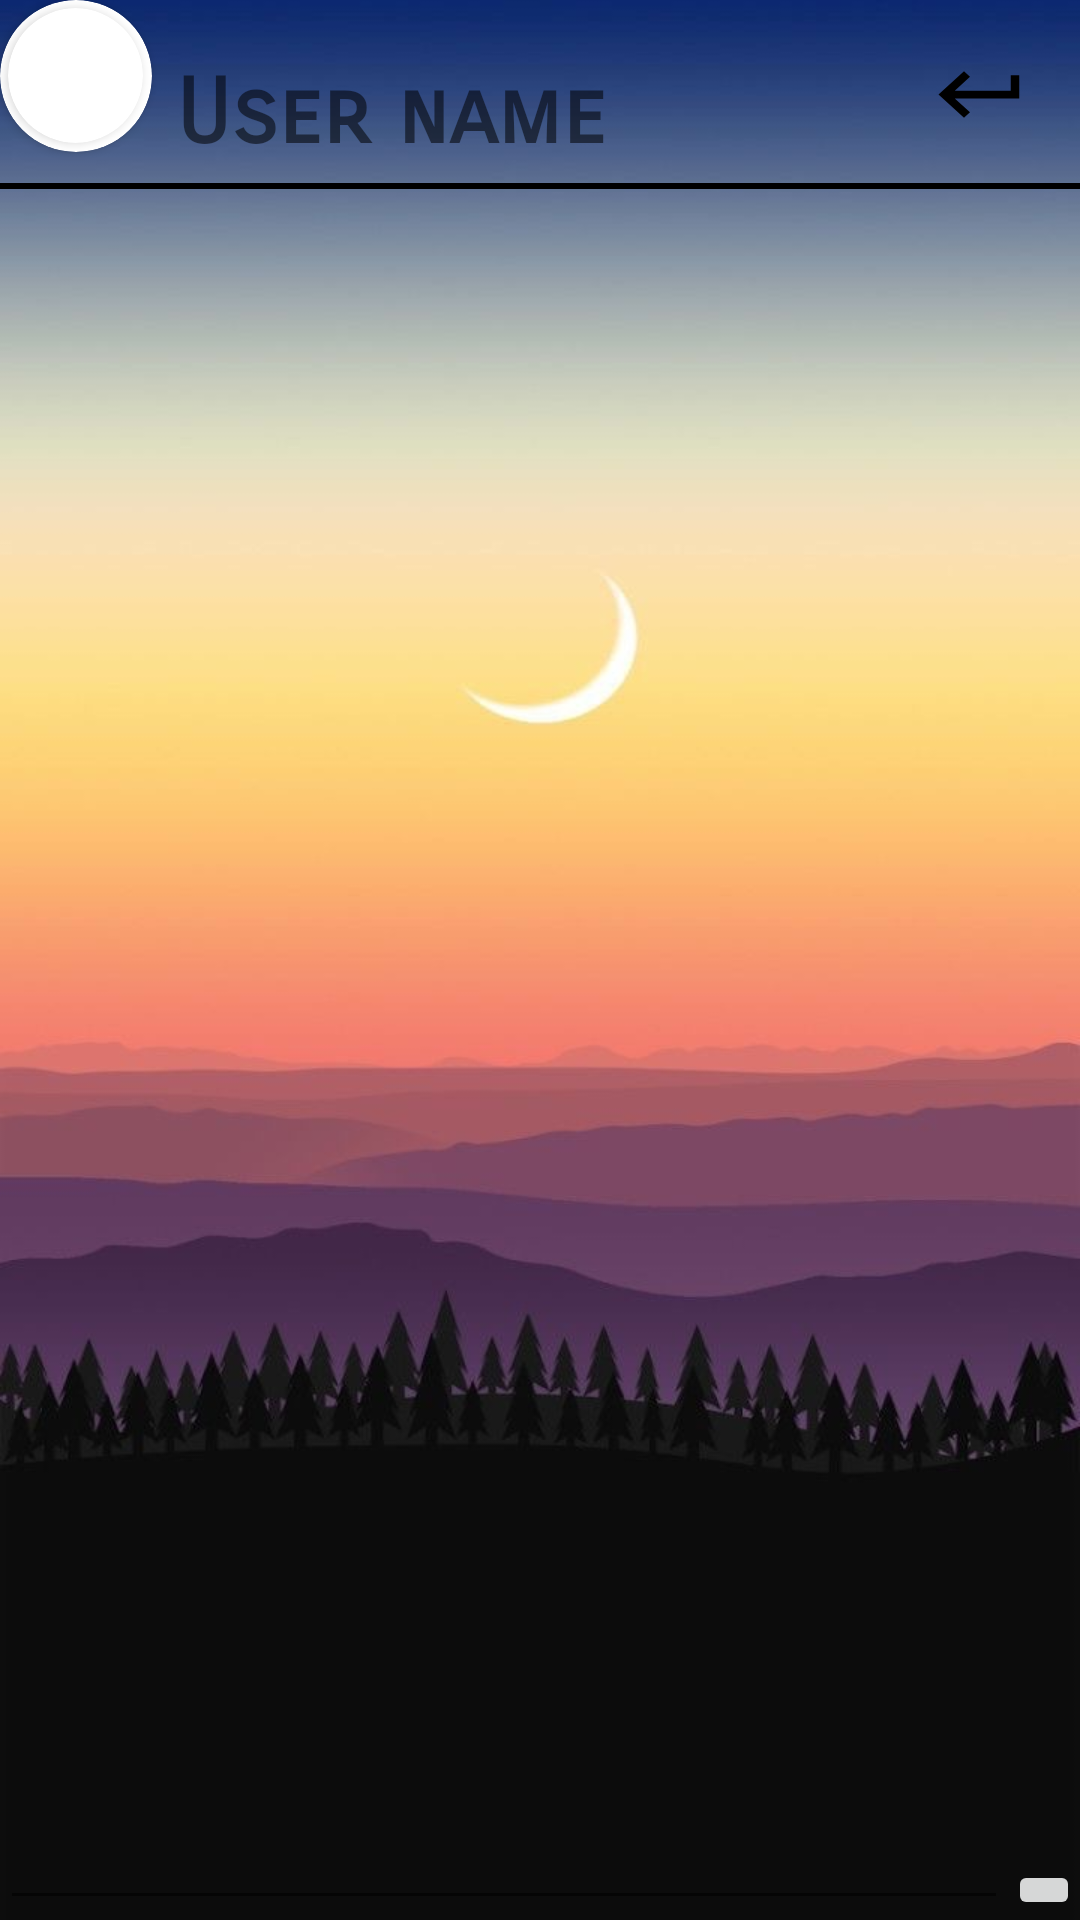

Where to tap for icons on this 1080×1920 app screen, as (x,y):
return: (981,94)
